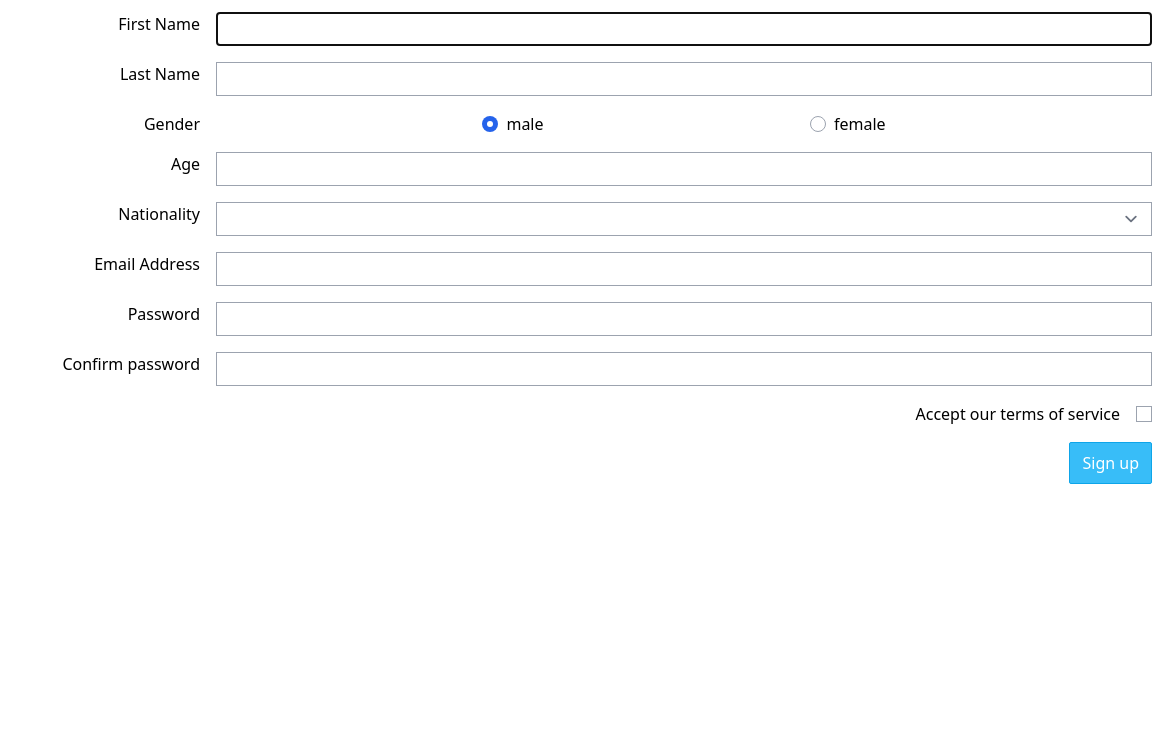
SignupForm › should show error if password fields doesn't match
The width and height of the screenshot is (1164, 732).
Type "1234" into the password field labelled "Password".
click(684, 319); type("1234")  # box [216,302,1152,336]
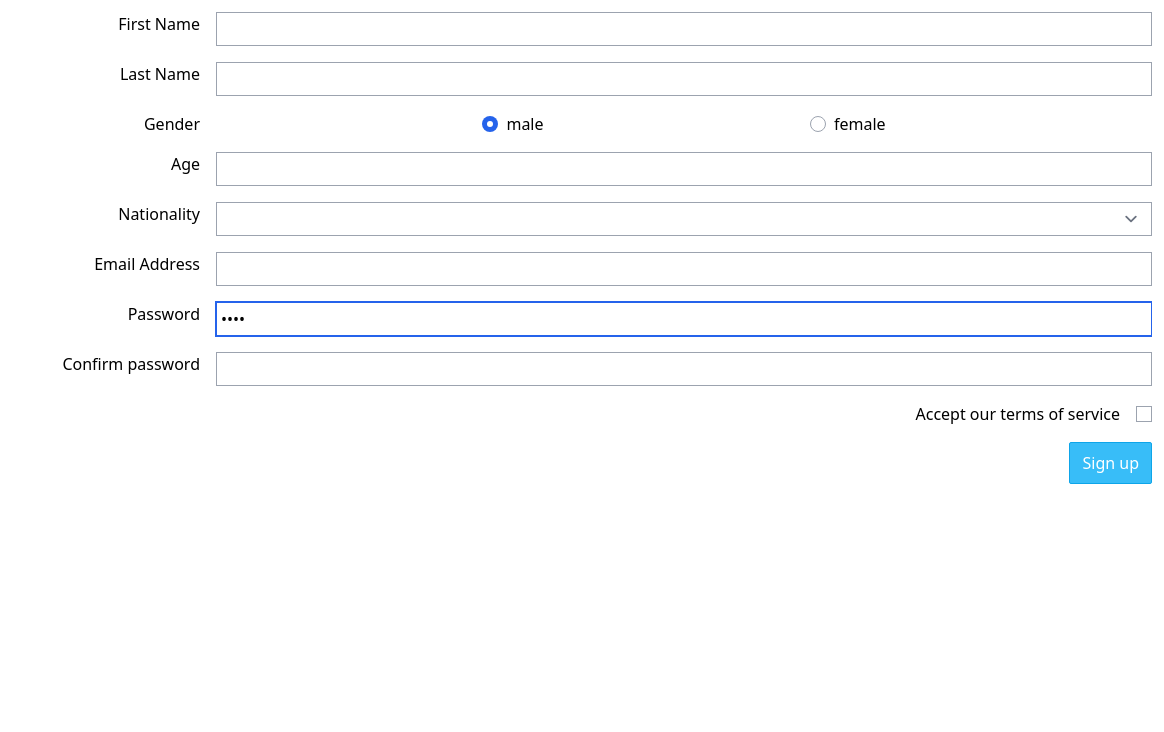
Type "abcd" into the password field labelled "Confirm password".
click(684, 369); type("abcd")  # box [216,352,1152,386]
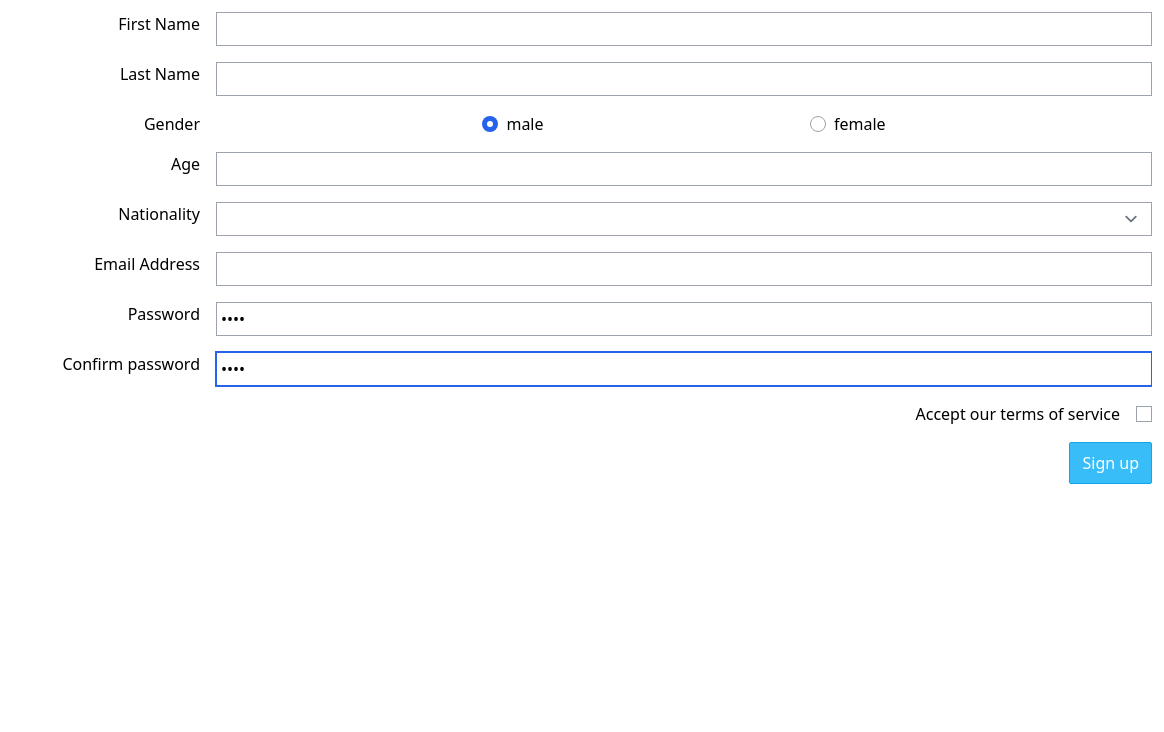
# click submit button after first name field has been focused
Click the button "Sign up".
click(1111, 463)  # box [1070,442,1152,484]
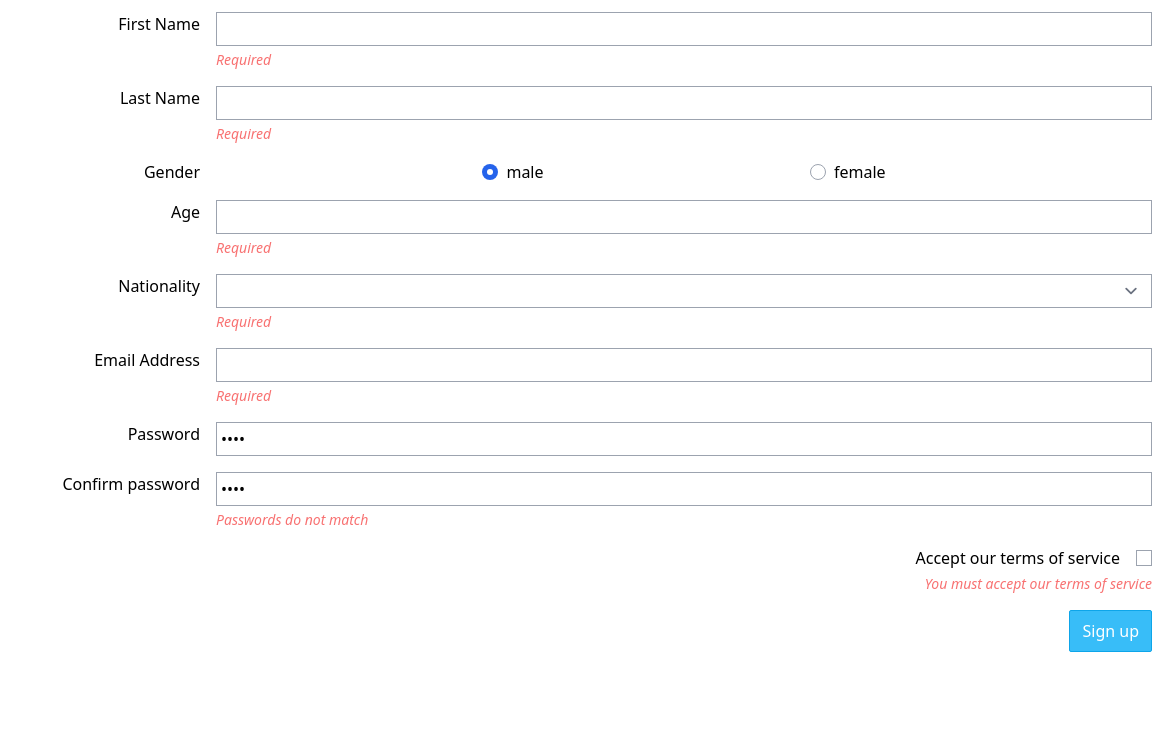
Now the text "Passwords do not match" is shown, box [216,510,368,529]
